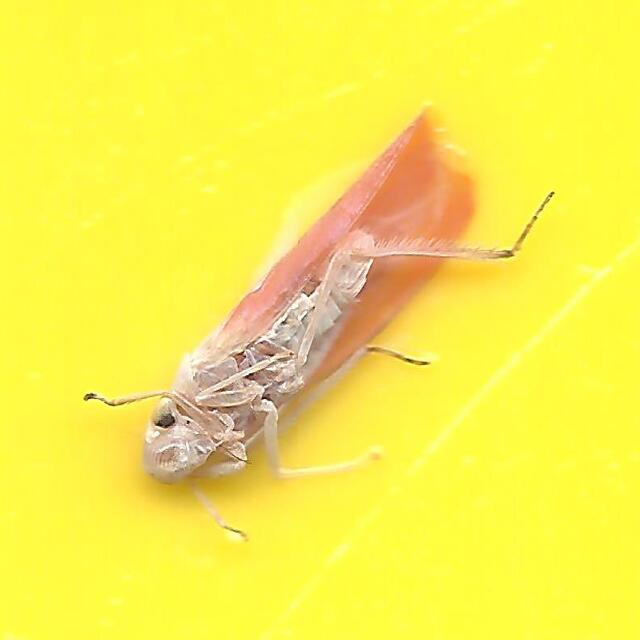Hemiptera: (81, 103, 559, 537)
